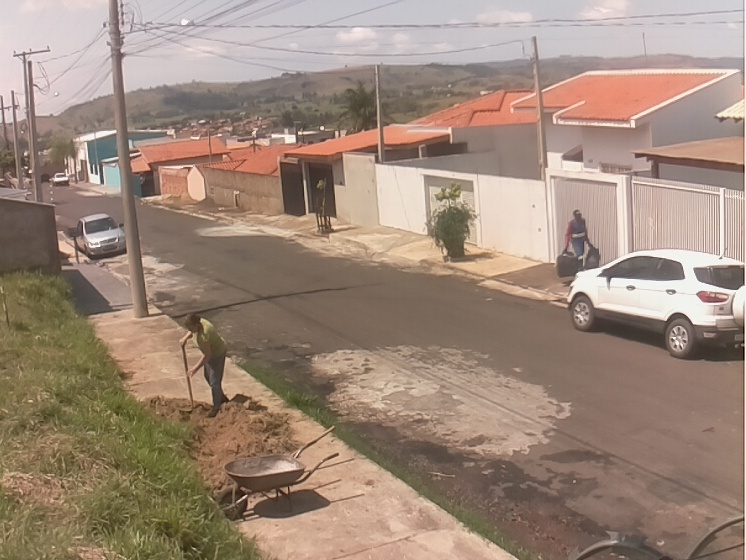person: (180, 313, 228, 404), (564, 209, 595, 266)
